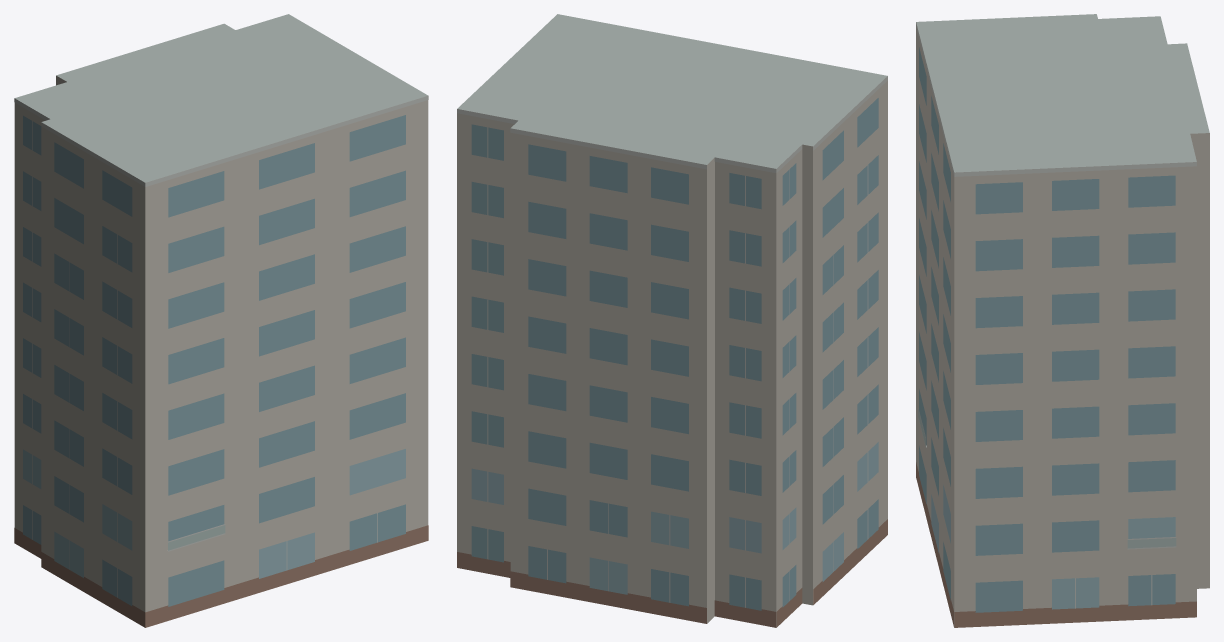
File: survey-upis-33043523.glb
3 renders of one model, left to right at view 1: azimuth 30°, elevation 25°; view 2: azimuth 150°, elevation 25°; view 3: azimuth 270°, elevation 25°, orthographic. The views are drawn at different scales.
Parts seen in each view (by area): view 1: survey-upis-33043523.tmp; view 2: survey-upis-33043523.tmp; view 3: survey-upis-33043523.tmp.
Boxes of the visible parts, box(x1,y1,x2,y2) form: survey-upis-33043523.tmp: box(14, 14, 428, 627); survey-upis-33043523.tmp: box(457, 14, 887, 627); survey-upis-33043523.tmp: box(916, 14, 1209, 627).
Bounding box in the file's own units: 19.05 × 25.5 × 14.92.
